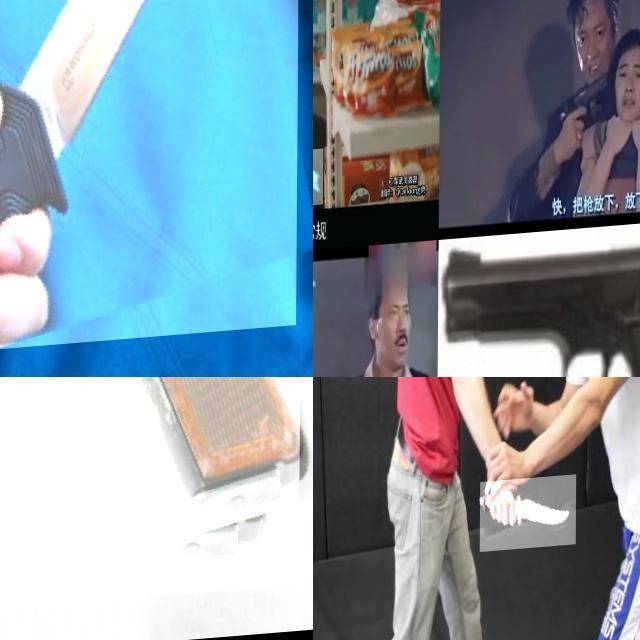-: (0, 0, 300, 366), (481, 481, 576, 557)
gun-knife-thesis - v11 Yolov5 augmented: (0, 377, 302, 640), (442, 230, 640, 377), (554, 74, 605, 161), (313, 288, 334, 377), (313, 152, 333, 210)
